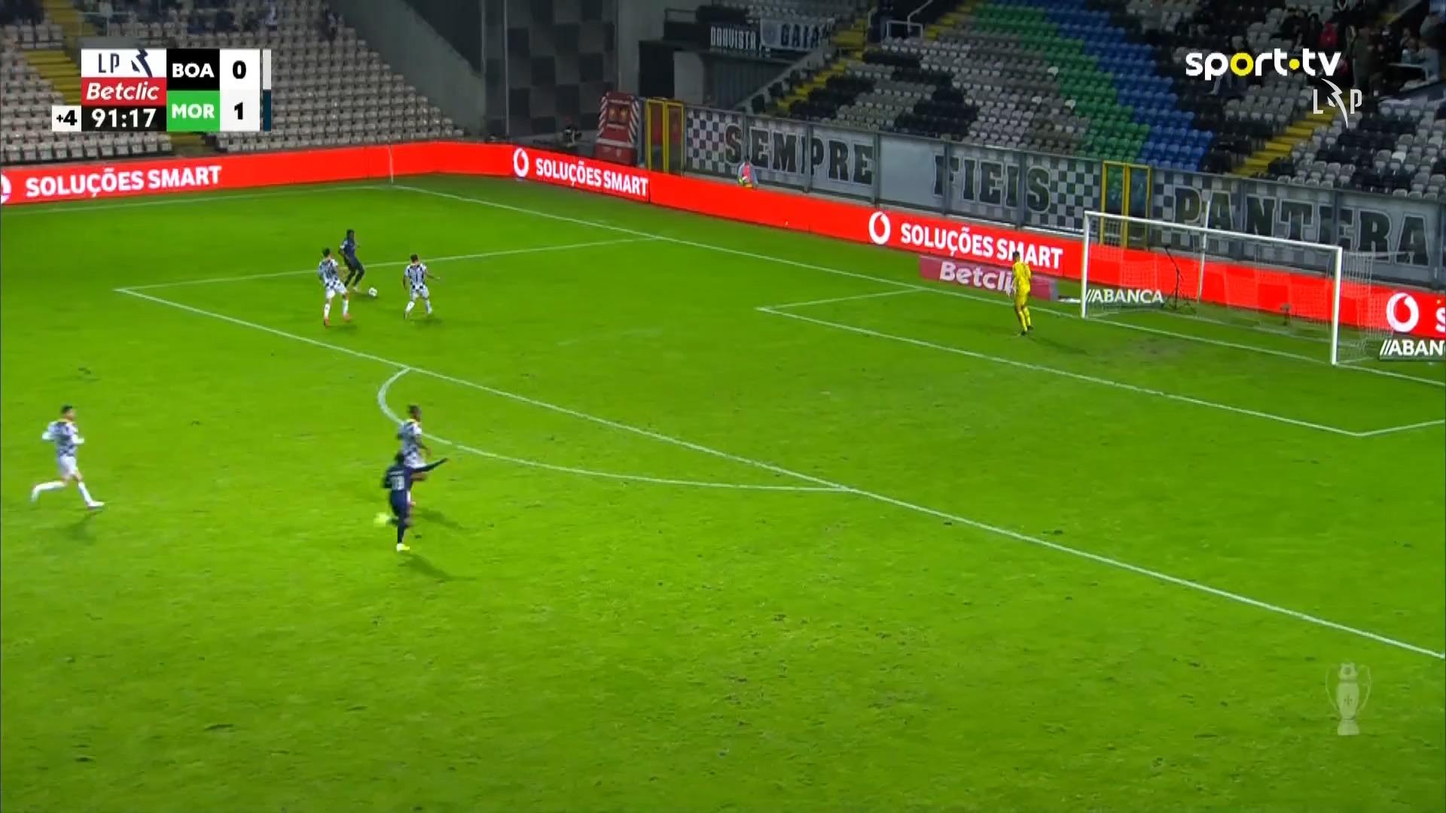ball: (367, 286, 377, 297)
goalkeeper: (1006, 249, 1033, 336)
player: (29, 403, 105, 510), (380, 449, 448, 552), (395, 403, 430, 506), (316, 246, 352, 327), (401, 253, 440, 320), (337, 228, 365, 292)
